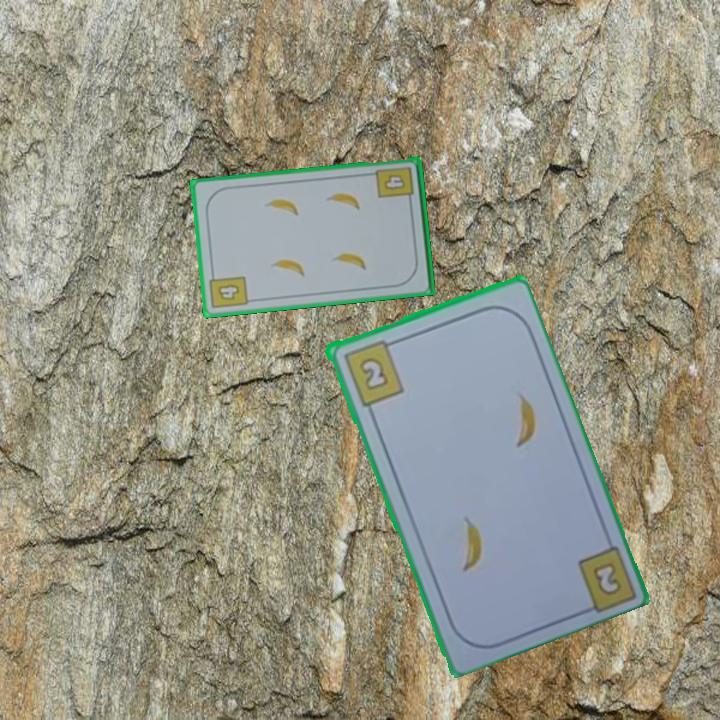2b: (339, 336, 406, 409), (592, 562, 621, 596)
4b: (206, 268, 251, 312), (373, 163, 417, 206)
